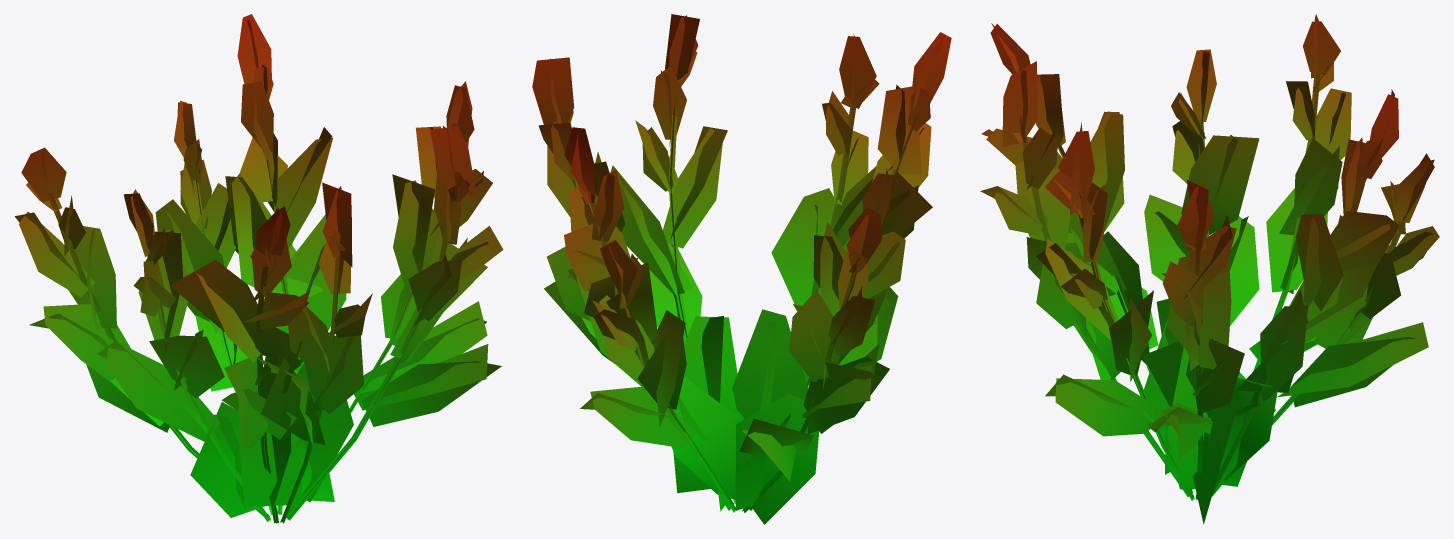
Rendered from Chamomile_LOD2_Var9.fbx.
3 views of the same model, side by side, from view 1: azimuth 30°, elevation 25°; view 2: azimuth 150°, elevation 25°; view 3: azimuth 270°, elevation 25° (orthographic). The views are drawn at different scales.
Visible parts, largest first — view 1: _6dd9_Var9_LOD2; view 2: _6dd9_Var9_LOD2; view 3: _6dd9_Var9_LOD2.
Part boxes in pixels (x1,y1,x2,y2): _6dd9_Var9_LOD2: [15, 14, 503, 523]; _6dd9_Var9_LOD2: [532, 14, 951, 524]; _6dd9_Var9_LOD2: [980, 14, 1439, 524].
Bounding box in the file's own units: 20.9 × 21.2 × 20.2.
